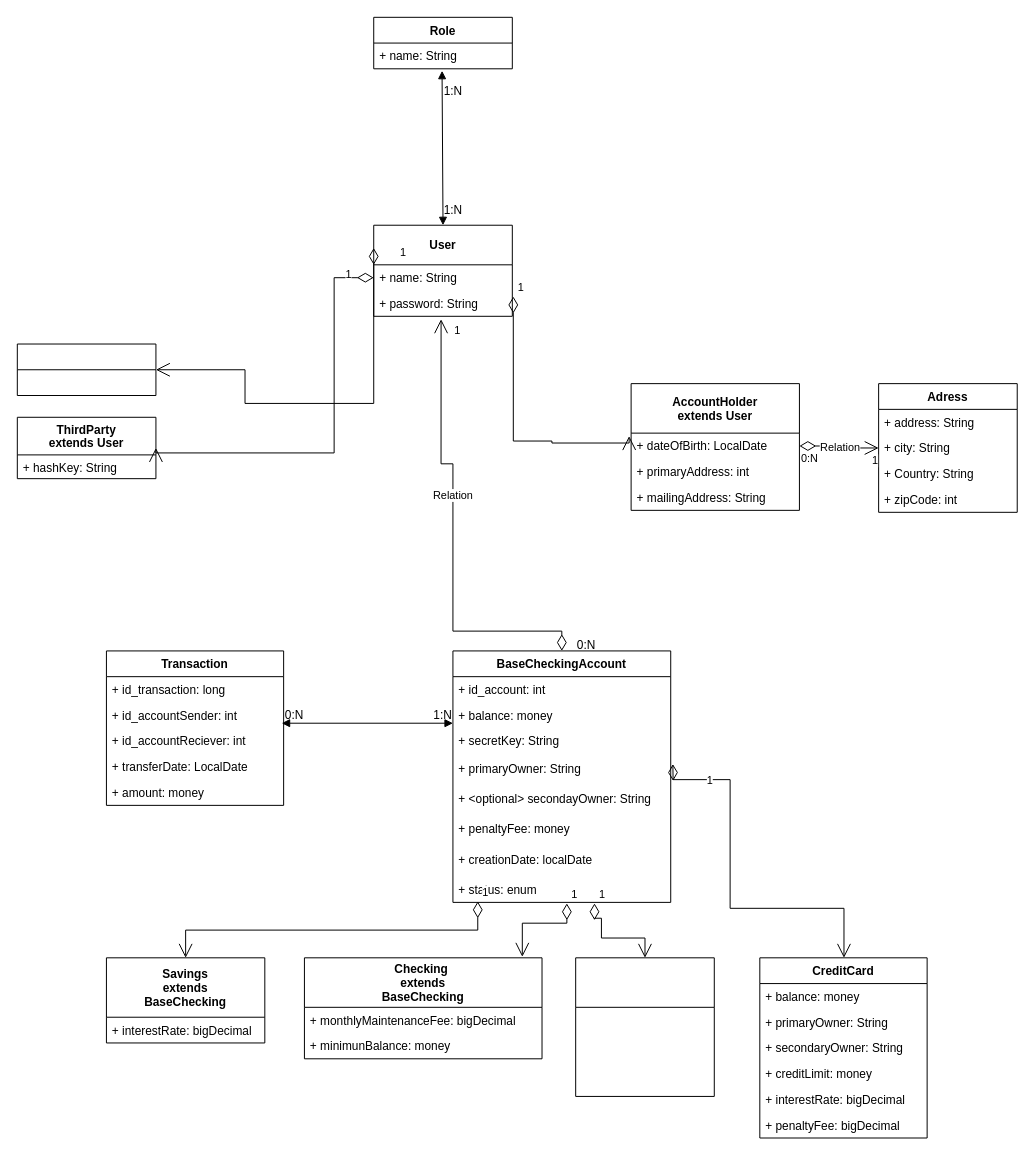
The diagram is 1035 pixels wide and 1158 high, and some of its shapes have lost their labels. The centre of each missing label's shape, as x and y in pixels:
"Admin extends User" goes at point (86, 369).
"StudentChecking extends BaseChecking" goes at point (644, 1026).
